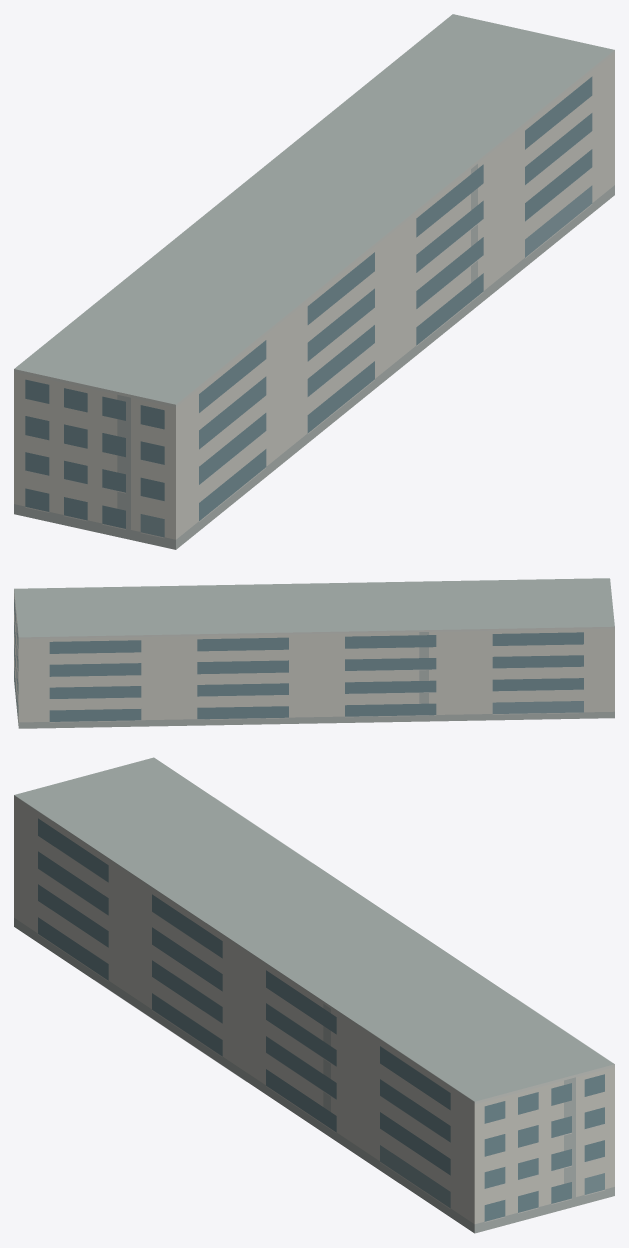
File: residential-31cb0e49-e6e4-4206-9829-4c025cf479d6.glb
3 renders of one model, top to bottom at view 1: azimuth 30°, elevation 25°; view 2: azimuth 150°, elevation 25°; view 3: azimuth 270°, elevation 25°, orthographic. The views are drawn at different scales.
Parts seen in each view (by area): view 1: residential-31cb0e49-e6e4-4206-9829-4c025cf479d6.tmp; view 2: residential-31cb0e49-e6e4-4206-9829-4c025cf479d6.tmp; view 3: residential-31cb0e49-e6e4-4206-9829-4c025cf479d6.tmp.
Part boxes in pixels (left/top/right/bottom): residential-31cb0e49-e6e4-4206-9829-4c025cf479d6.tmp: left=14, top=14, right=614, bottom=549; residential-31cb0e49-e6e4-4206-9829-4c025cf479d6.tmp: left=14, top=578, right=614, bottom=728; residential-31cb0e49-e6e4-4206-9829-4c025cf479d6.tmp: left=14, top=757, right=614, bottom=1233.
Bounding box in the file's own units: 68.39 × 12.2 × 50.44.
